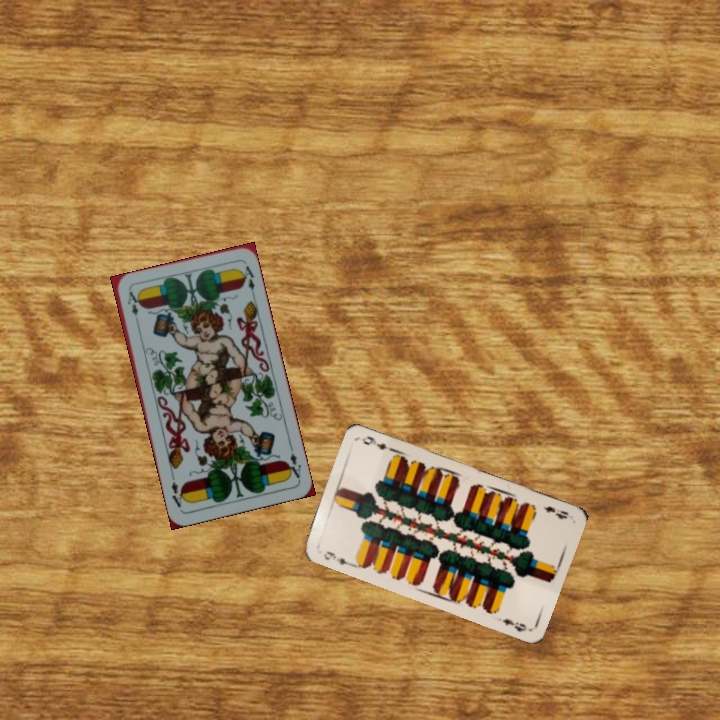E9: (320, 547, 354, 568), (540, 502, 571, 522)
EA: (282, 442, 303, 481), (123, 287, 141, 318)
